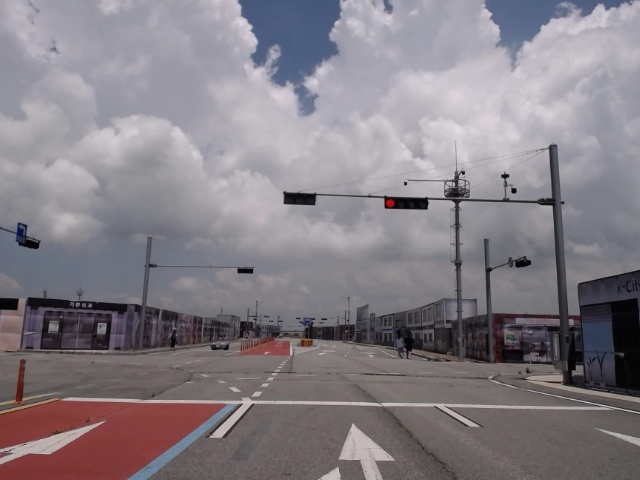red_4: (384, 198, 427, 210)
